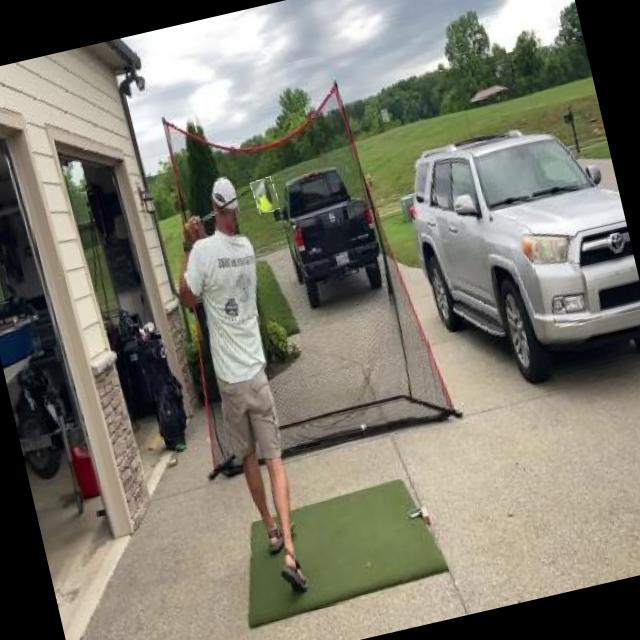club head: (250, 176, 280, 213)
